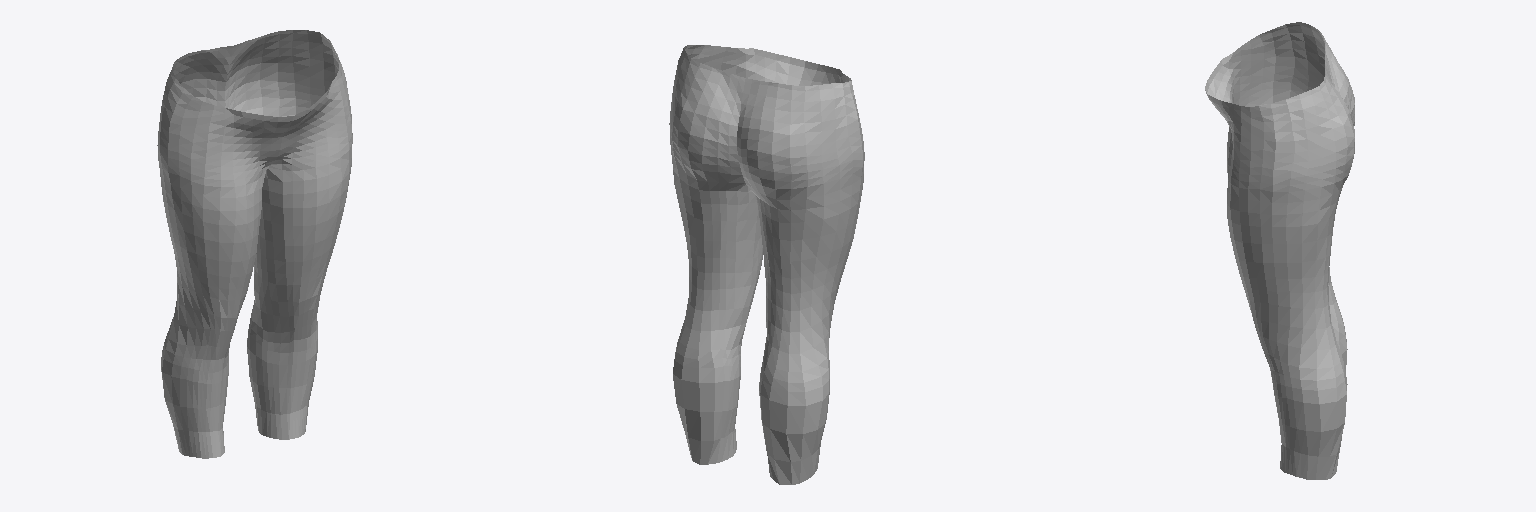
Rendered from bottomsmid.obj.
The picture shows the model from 3 angles: view 1: azimuth 30°, elevation 25°; view 2: azimuth 150°, elevation 25°; view 3: azimuth 270°, elevation 25°; orthographic projection.
Parts seen in each view (by area): view 1: bottomsmid_Plane.003; view 2: bottomsmid_Plane.003; view 3: bottomsmid_Plane.003.
Part boxes in pixels (x1,y1,x2,y2): bottomsmid_Plane.003: (157, 30, 352, 458); bottomsmid_Plane.003: (669, 45, 864, 484); bottomsmid_Plane.003: (1205, 22, 1354, 479).
Bounding box in the file's own units: 0.3991 × 0.8275 × 0.2848.